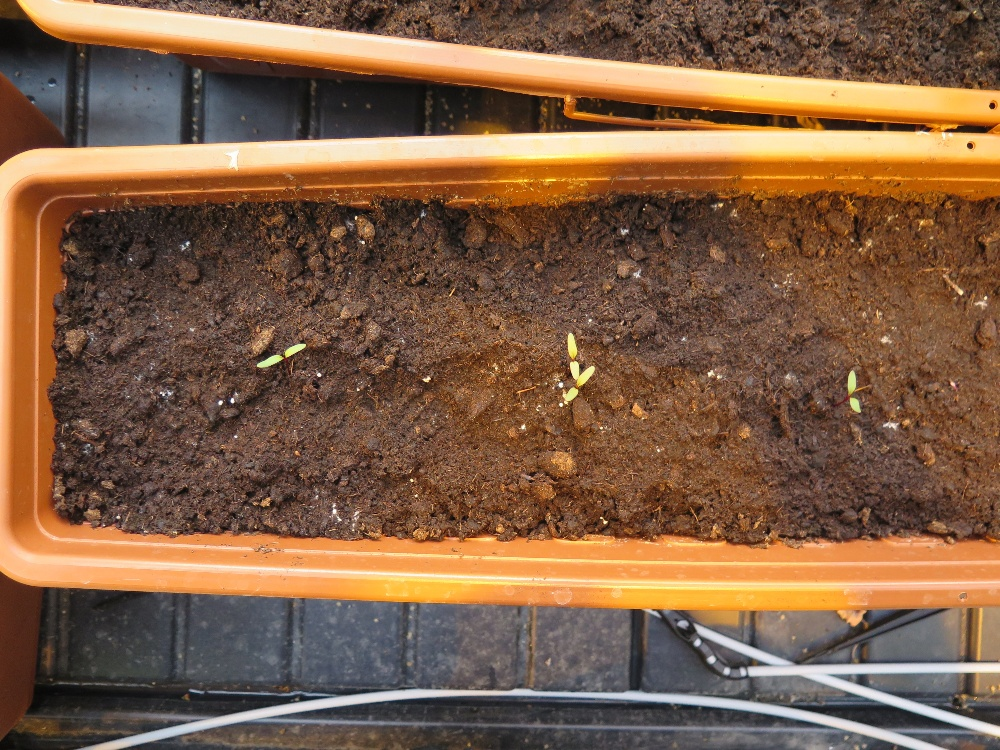crop: (255, 341, 307, 369), (561, 366, 596, 407), (559, 328, 583, 379), (846, 369, 862, 414)
